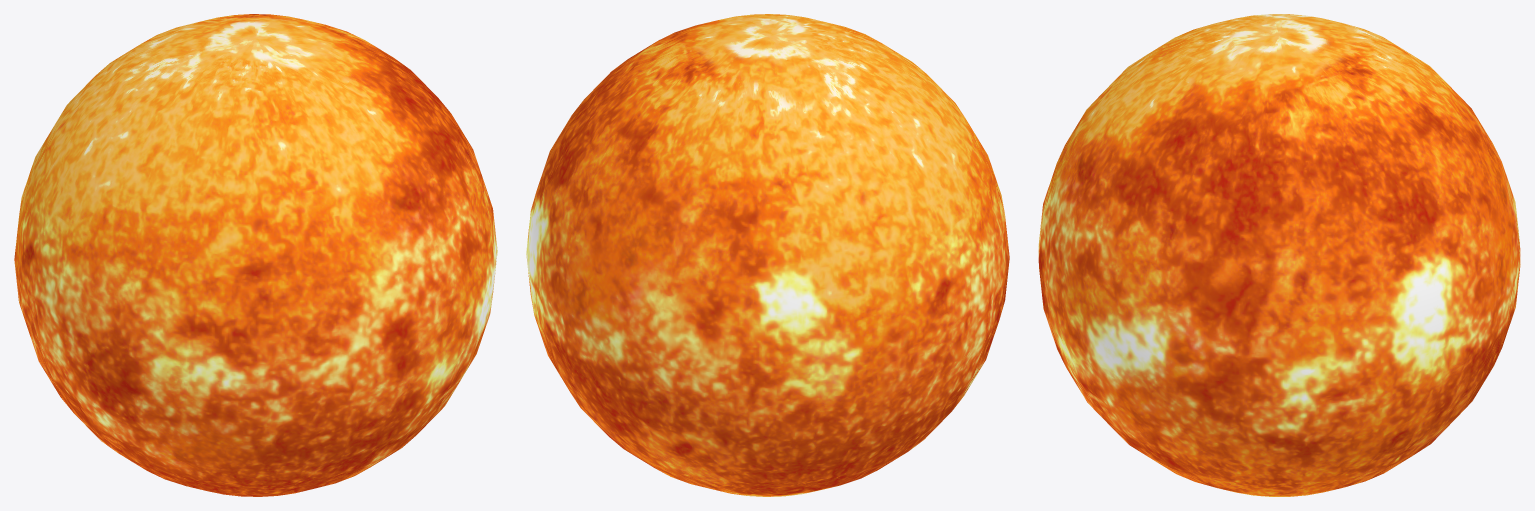
File: Solen.glb
3 views of the same model, side by side, from view 1: azimuth 30°, elevation 25°; view 2: azimuth 150°, elevation 25°; view 3: azimuth 270°, elevation 25° (orthographic).
Visible parts, largest first — view 1: Sun; view 2: Sun; view 3: Sun.
Part boxes in pixels (x1,y1,x2,y2): Sun: (14,14,497,496); Sun: (526,14,1009,496); Sun: (1038,14,1520,496).
Bounding box in the file's own units: 99.64 × 100 × 99.64.
Materials: 1 (1 with a texture image).
